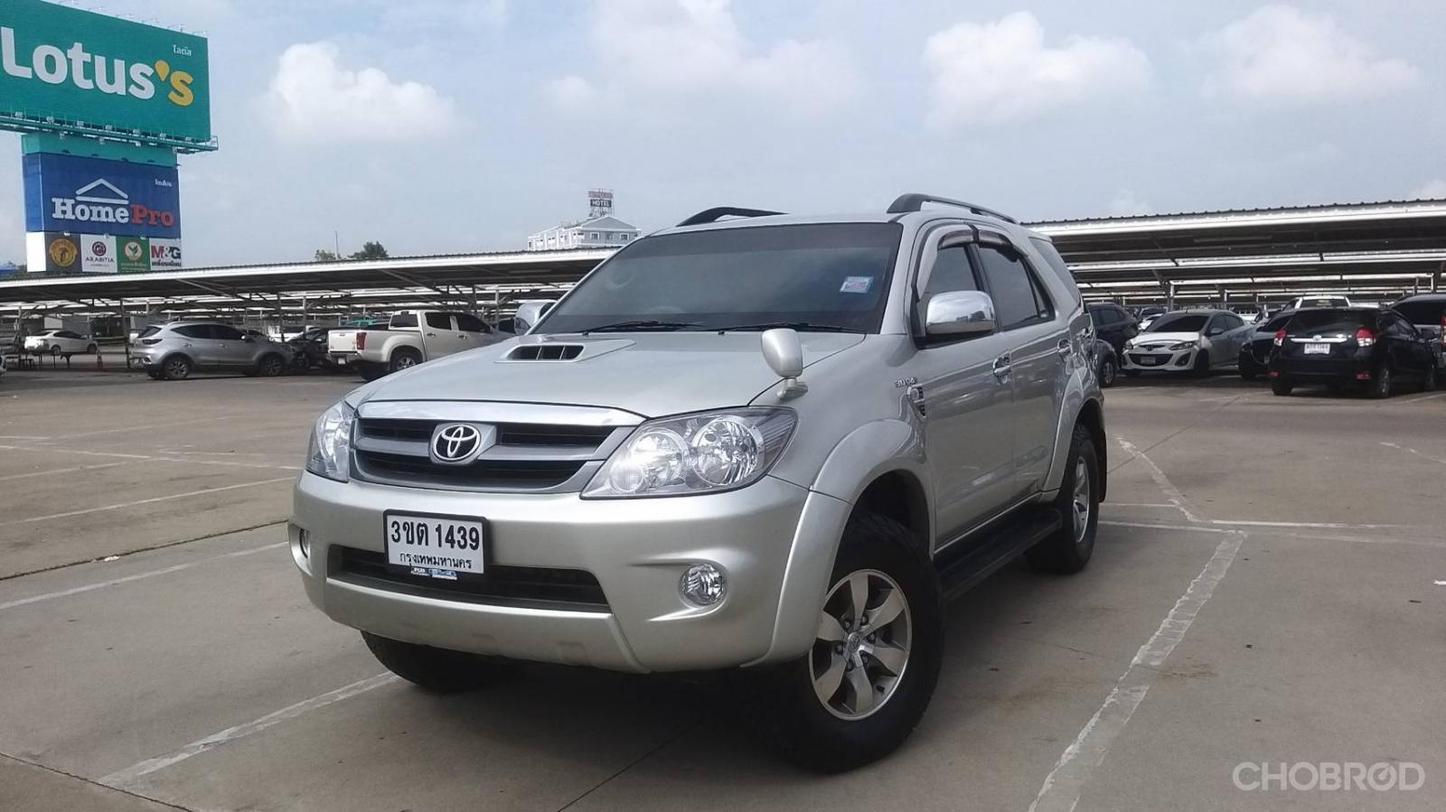license-plate: (384, 507, 494, 581)
